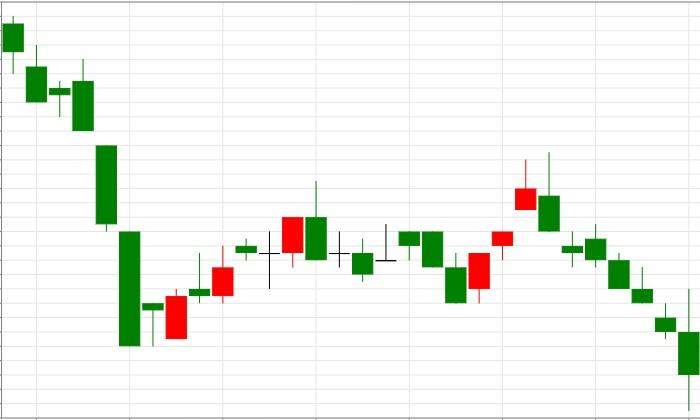three_white_soldiers_rise: (398, 159, 537, 304)
